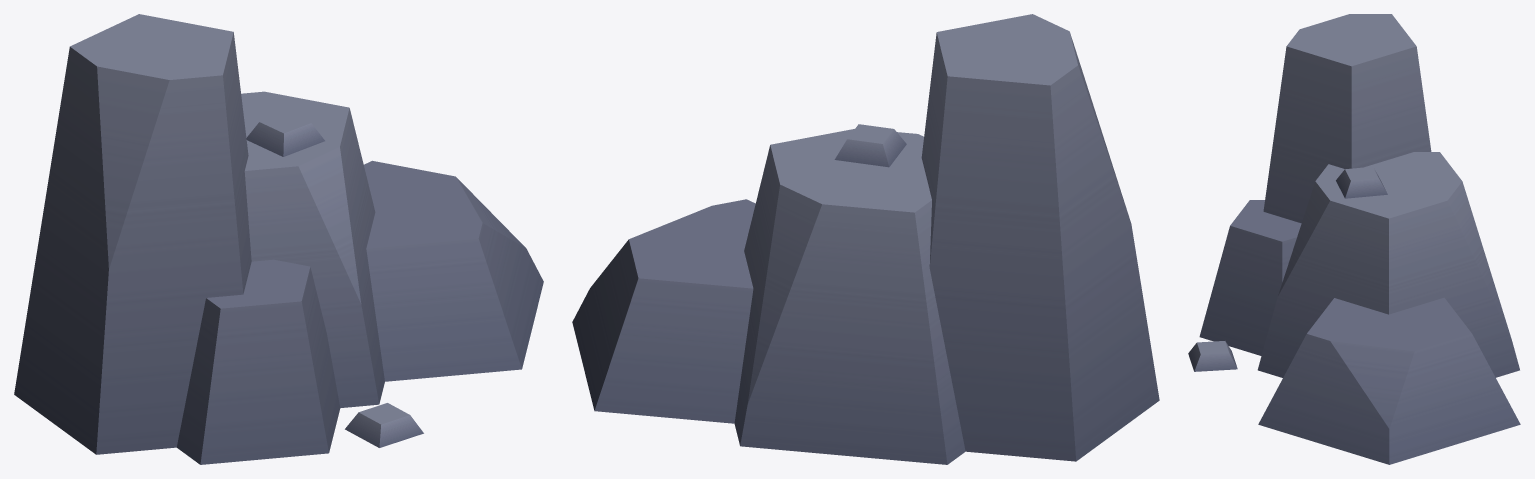
The model's file is pedra 3 cinza.glb.
3 views of the same model, side by side, from view 1: azimuth 30°, elevation 25°; view 2: azimuth 150°, elevation 25°; view 3: azimuth 270°, elevation 25° (orthographic). The views are drawn at different scales.
Visible parts, largest first — view 1: rock-c; view 2: rock-c; view 3: rock-c.
Boxes of the visible parts, box(x1,y1,x2,y2) form: rock-c: box(14, 14, 543, 464); rock-c: box(572, 14, 1159, 464); rock-c: box(1188, 14, 1520, 464).
Size of the model in its own units: 0.7837 by 0.51 by 0.5659.
Materials: 1 (1 with a texture image).
